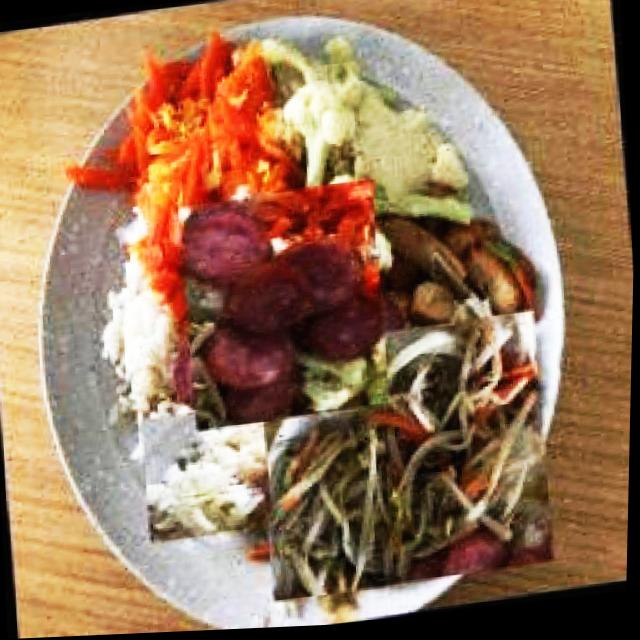carrot_eggs: (107, 36, 283, 206)
chinese_sausage: (172, 174, 396, 427), (450, 529, 509, 575)
mung_bean_sprouts: (252, 387, 526, 606)
rice: (96, 286, 162, 416)
